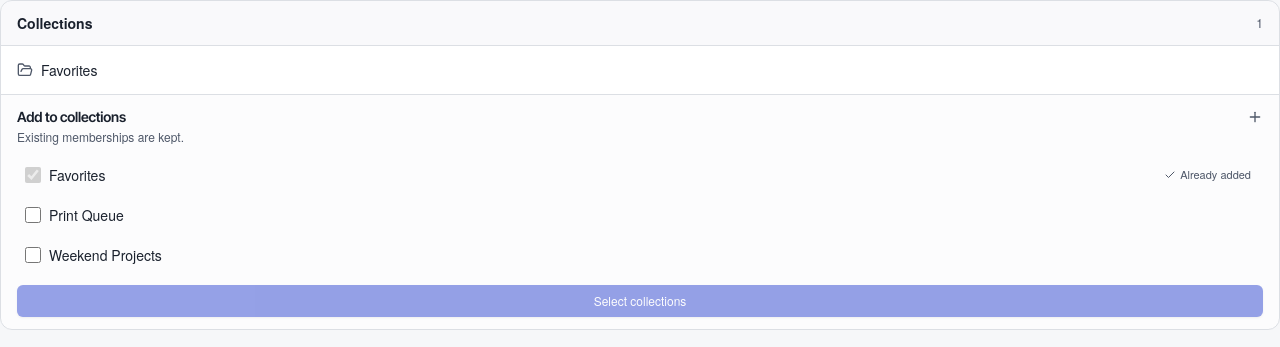
Test case: CollectionsList › should keep existing memberships checked and disabled while adding only new selections
Expected: the checkbox labelled "Favorites" is checked, [25, 167, 41, 183]
Expected: the checkbox labelled "Favorites" is disabled, [25, 167, 41, 183]
Click the checkbox labelled "Print Queue" at (33, 215), box [25, 207, 41, 223]
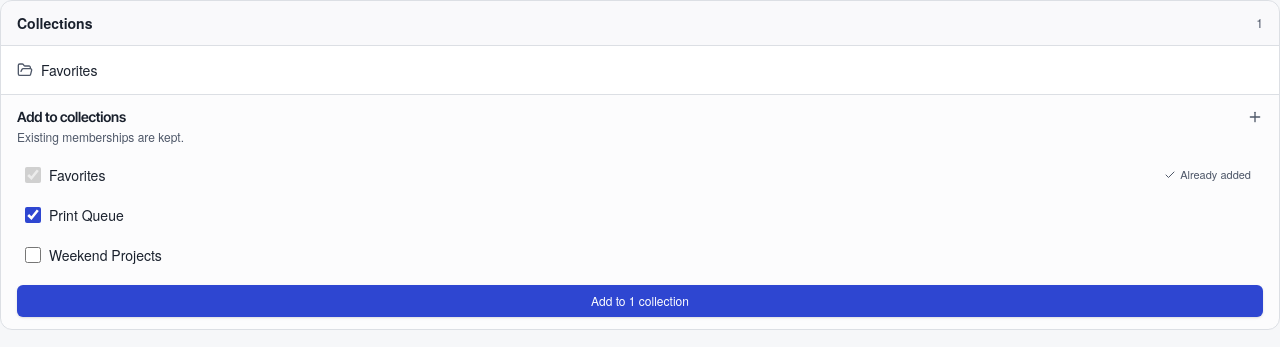
Click the checkbox labelled "Weekend Projects" at (33, 255), box [25, 247, 41, 263]
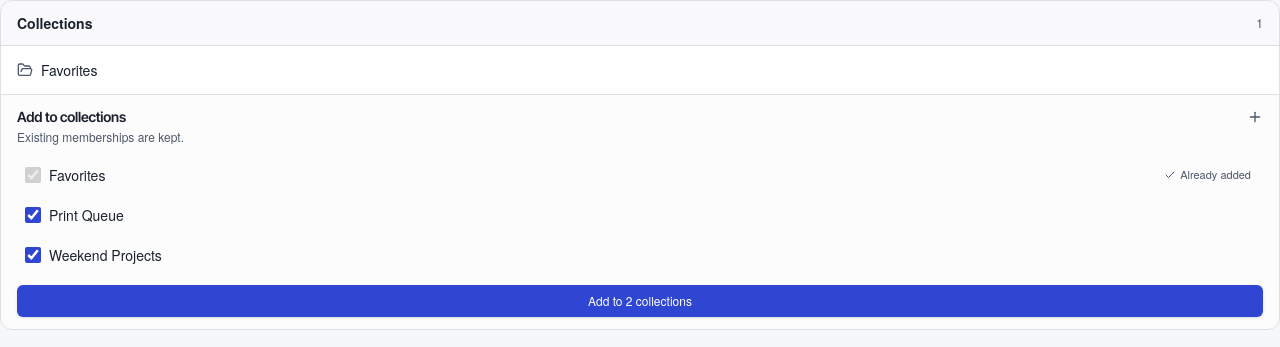
Click the button "Add to 2 collections" at (640, 301), box [17, 285, 1263, 317]
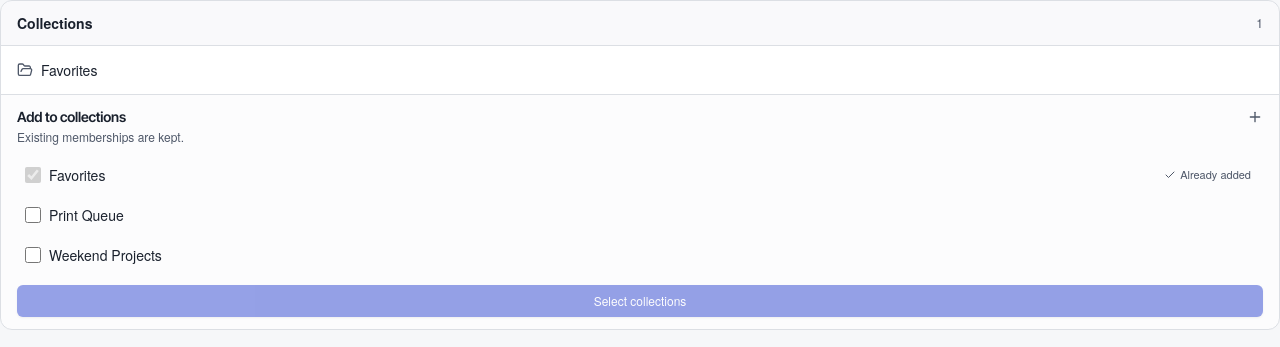
Now the button "Select collections" is disabled, box [17, 285, 1263, 317]
